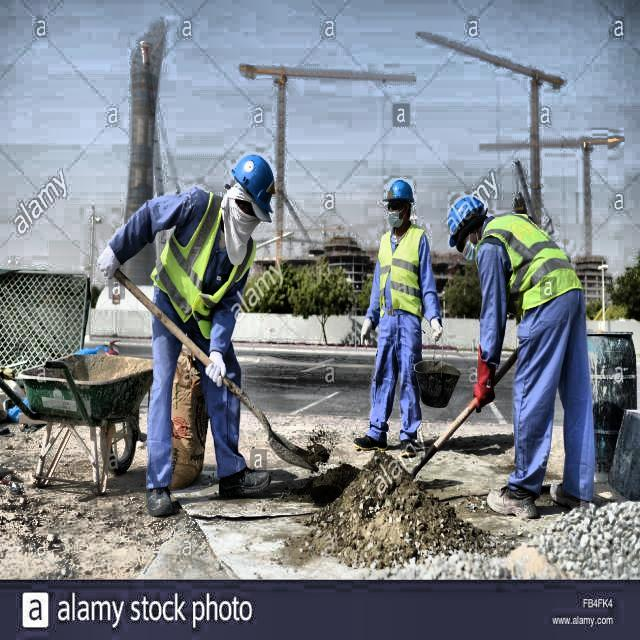person: (98, 152, 284, 504), (444, 198, 594, 514), (362, 176, 438, 452)
